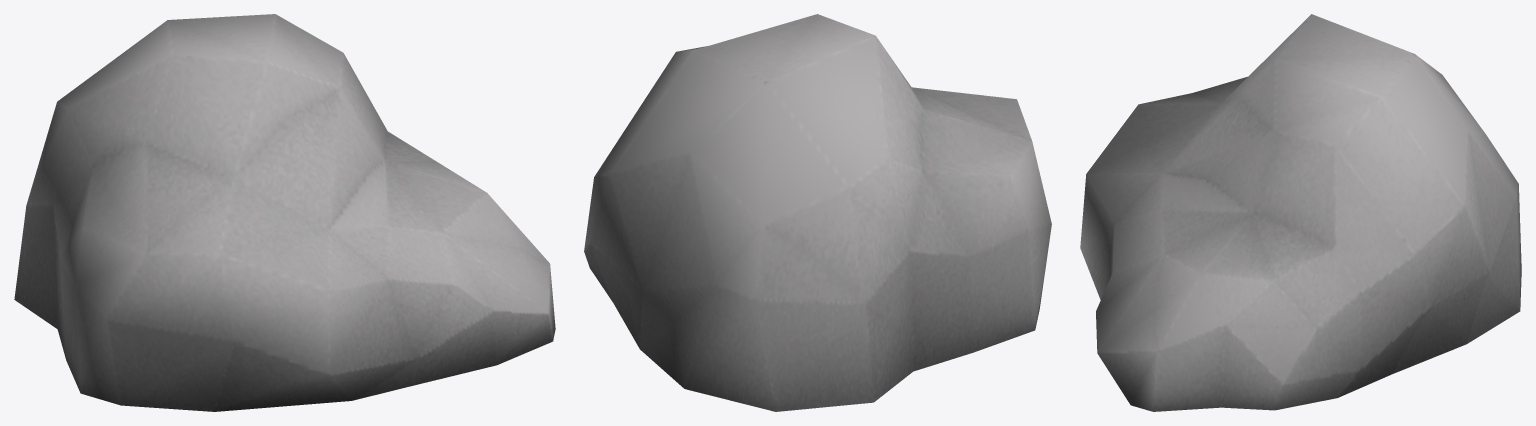
Rendered from Rock_02.fbx.
3 views of the same model, side by side, from view 1: azimuth 30°, elevation 25°; view 2: azimuth 150°, elevation 25°; view 3: azimuth 270°, elevation 25° (orthographic). The views are drawn at different scales.
Visible parts, largest first — view 1: Rock_011; view 2: Rock_011; view 3: Rock_011.
Part boxes in pixels (bbox=[...]): Rock_011: bbox=[14, 14, 555, 411]; Rock_011: bbox=[584, 14, 1051, 411]; Rock_011: bbox=[1080, 14, 1521, 411].
Bounding box in the file's own units: 0.2069 × 0.1329 × 0.202.
